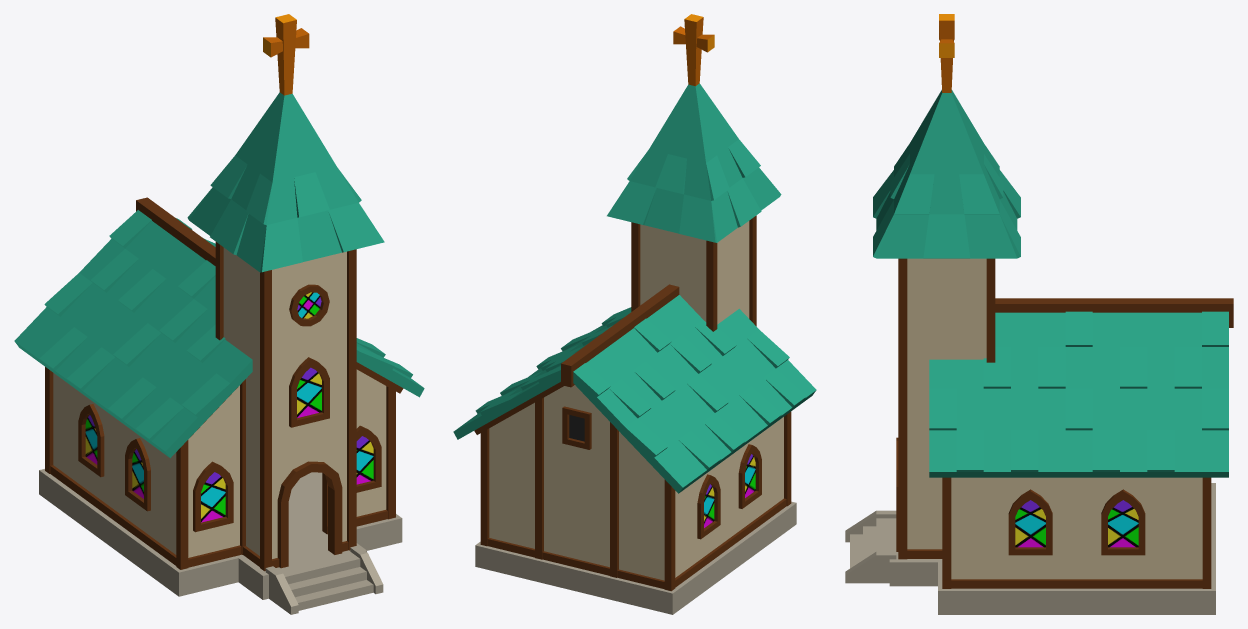
File: Church_01.fbx
The picture shows the model from 3 angles, left to right: view 1: azimuth 30°, elevation 25°; view 2: azimuth 150°, elevation 25°; view 3: azimuth 270°, elevation 25°; orthographic projection. The views are drawn at different scales.
Visible parts, largest first — view 1: Church_01; view 2: Church_01; view 3: Church_01.
Part boxes in pixels (x1,y1,x2,y2): Church_01: (14,14,424,614); Church_01: (453,14,816,614); Church_01: (845,14,1233,614).
Bounding box in the file's own units: 686 × 1360 × 880.
Materials: 1 (1 with a texture image).
